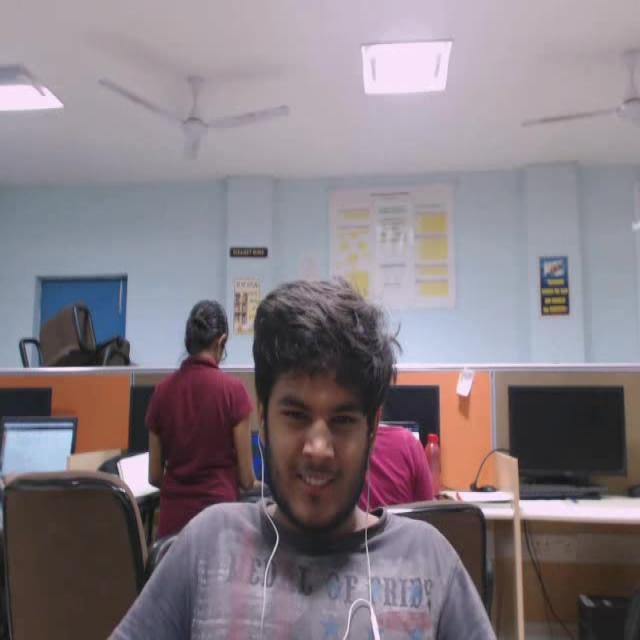Engaged: (239, 272, 400, 556)
